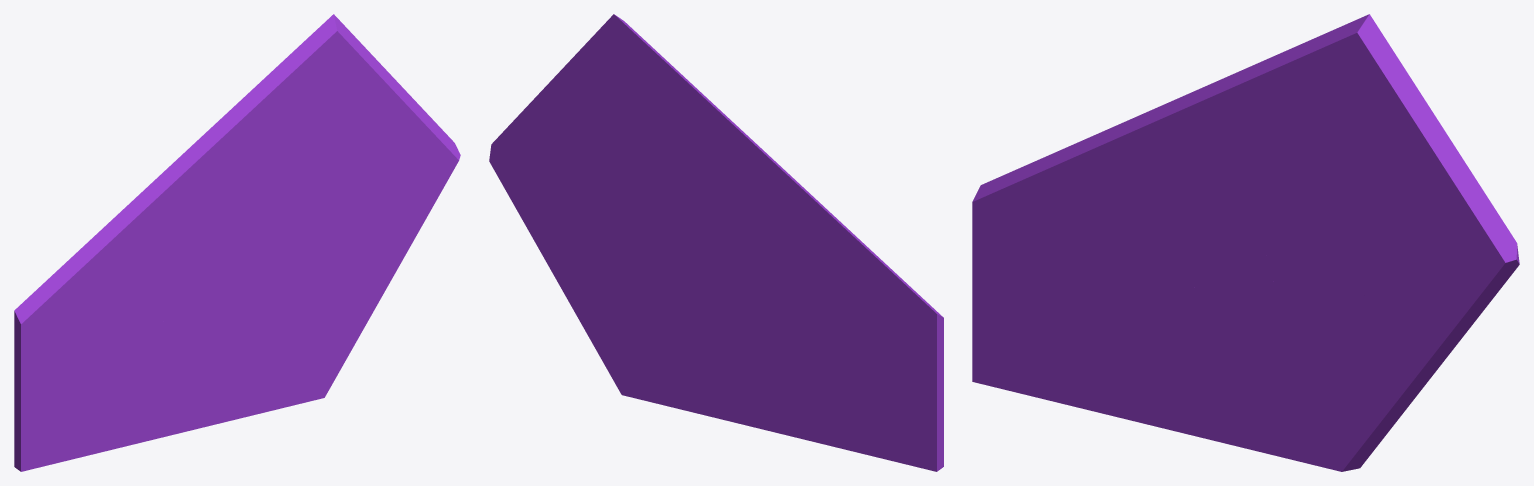
The model's file is Glass_85_19_chunks.fbx.
3 views of the same model, side by side, from view 1: azimuth 30°, elevation 25°; view 2: azimuth 150°, elevation 25°; view 3: azimuth 330°, elevation 25° (orthographic). The views are drawn at different scales.
Visible parts, largest first — view 1: Glass_85_19_1, Glass_85_19_12, Glass_85_19_4, Glass_85_19_2, Glass_85_19_9, Glass_85_19_5, Glass_85_19_6, Glass_85_19_10, Glass_85_19_8, Glass_85_19_7, Glass_85_19_3, Glass_85_19_0; view 2: Glass_85_19_1, Glass_85_19_12, Glass_85_19_4, Glass_85_19_2, Glass_85_19_5, Glass_85_19_9, Glass_85_19_8, Glass_85_19_6, Glass_85_19_11, Glass_85_19_10, Glass_85_19_7; view 3: Glass_85_19_1, Glass_85_19_12, Glass_85_19_4, Glass_85_19_9, Glass_85_19_2, Glass_85_19_5, Glass_85_19_6, Glass_85_19_8, Glass_85_19_10, Glass_85_19_7, Glass_85_19_3, Glass_85_19_11 (+1 smaller).
Part boxes in pixels (box(x1,y1,x2,y2)): Glass_85_19_1: box(14, 226, 146, 471); Glass_85_19_12: box(186, 34, 353, 245); Glass_85_19_4: box(105, 151, 266, 312); Glass_85_19_2: box(87, 294, 256, 455); Glass_85_19_9: box(312, 14, 460, 175); Glass_85_19_5: box(203, 268, 313, 427); Glass_85_19_6: box(278, 272, 395, 409); Glass_85_19_10: box(291, 172, 445, 246); Glass_85_19_8: box(332, 199, 436, 288); Glass_85_19_7: box(268, 229, 346, 300); Glass_85_19_3: box(145, 290, 169, 340); Glass_85_19_0: box(261, 239, 295, 268); Glass_85_19_1: box(792, 229, 943, 471); Glass_85_19_12: box(599, 34, 764, 252); Glass_85_19_4: box(683, 151, 849, 312); Glass_85_19_2: box(699, 292, 865, 454); Glass_85_19_5: box(636, 253, 753, 427); Glass_85_19_9: box(491, 14, 642, 157); Glass_85_19_8: box(508, 194, 649, 300); Glass_85_19_6: box(556, 280, 671, 407); Glass_85_19_11: box(489, 145, 604, 199); Glass_85_19_10: box(525, 180, 660, 245); Glass_85_19_7: box(640, 239, 682, 276); Glass_85_19_1: box(972, 137, 1125, 401); Glass_85_19_12: box(1188, 26, 1376, 265); Glass_85_19_4: box(1084, 93, 1271, 304); Glass_85_19_9: box(1332, 14, 1517, 272); Glass_85_19_2: box(1053, 276, 1258, 435); Glass_85_19_5: box(1193, 280, 1328, 457); Glass_85_19_6: box(1285, 344, 1438, 471); Glass_85_19_8: box(1351, 280, 1496, 367); Glass_85_19_10: box(1301, 214, 1490, 296); Glass_85_19_7: box(1273, 270, 1368, 347); Glass_85_19_3: box(1123, 233, 1153, 297); Glass_85_19_11: box(1452, 246, 1519, 294).
Size of the model in its own units: 1011 by 817 by 27.2.
